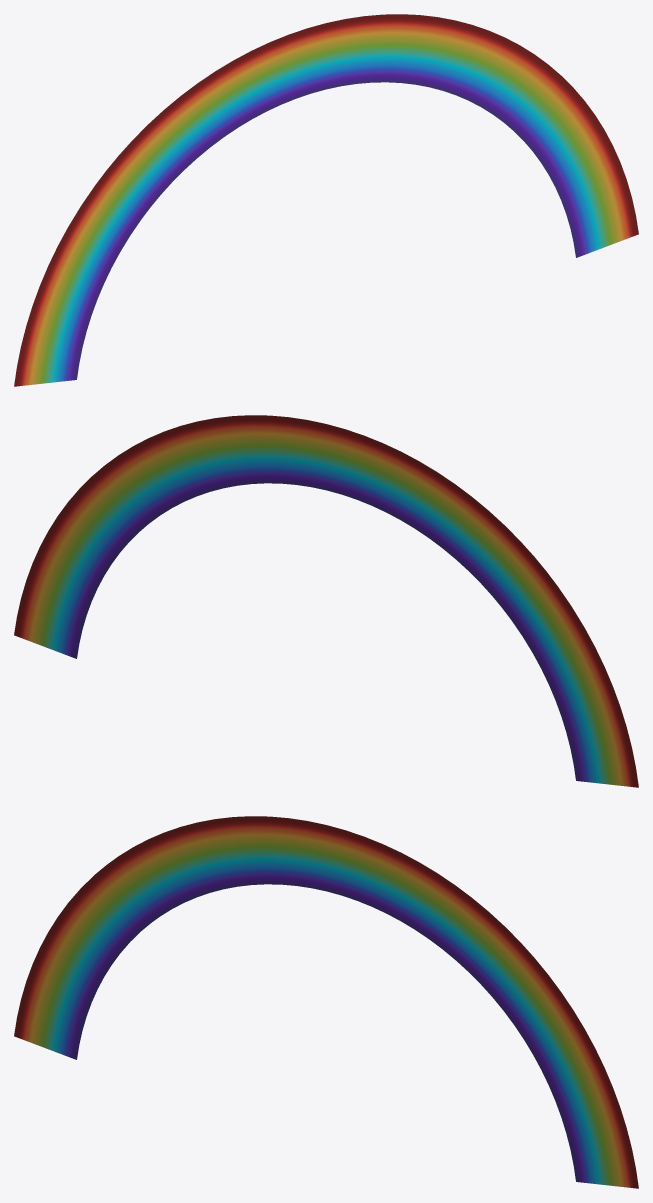
File: P_RainbowThick.obj
The picture shows the model from 3 angles, top to bottom: view 1: azimuth 30°, elevation 25°; view 2: azimuth 150°, elevation 25°; view 3: azimuth 330°, elevation 25°; orthographic projection.
Size of the model in its own units: 70.81 by 32.05 by 2.38e-05.
